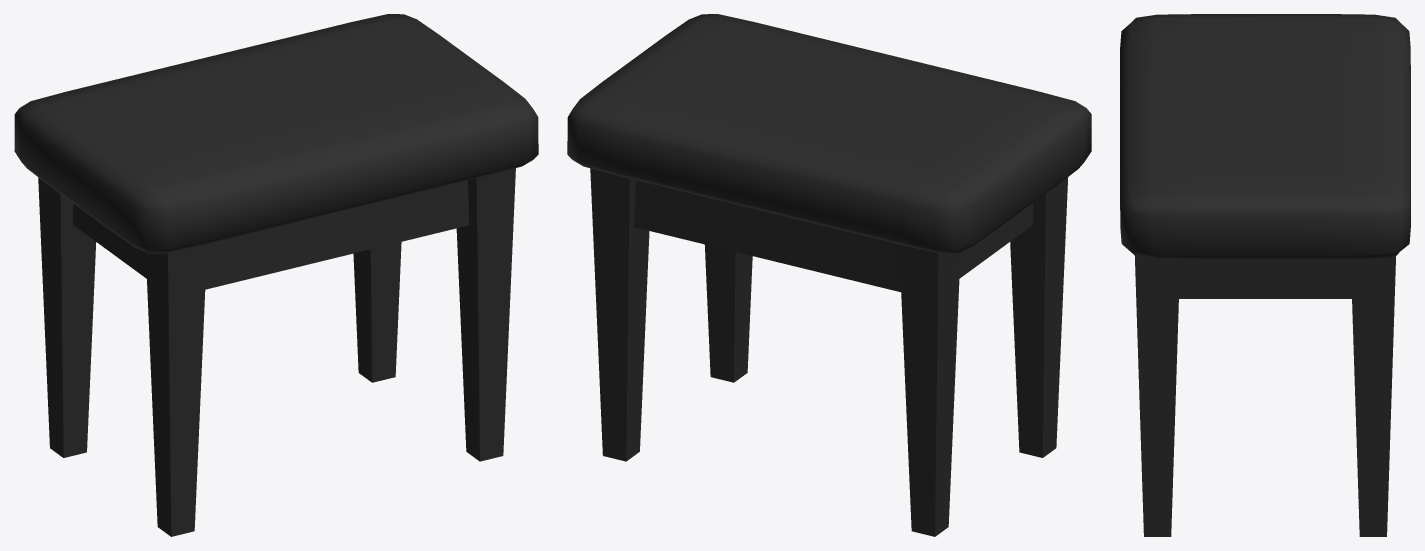
File: Seat_02.fbx
3 renders of one model, left to right at view 1: azimuth 30°, elevation 25°; view 2: azimuth 150°, elevation 25°; view 3: azimuth 270°, elevation 25°, orthographic.
Parts seen in each view (by area): view 1: Seat_02; view 2: Seat_02; view 3: Seat_02.
Part boxes in pixels (x1=…): Seat_02: x1=14, y1=14, x2=538, y2=536; Seat_02: x1=567, y1=14, x2=1091, y2=536; Seat_02: x1=1120, y1=14, x2=1410, y2=536.
Bounding box in the file's own units: 0.6028 × 0.5012 × 0.3769.
